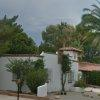Tree: (2, 7, 51, 54)
